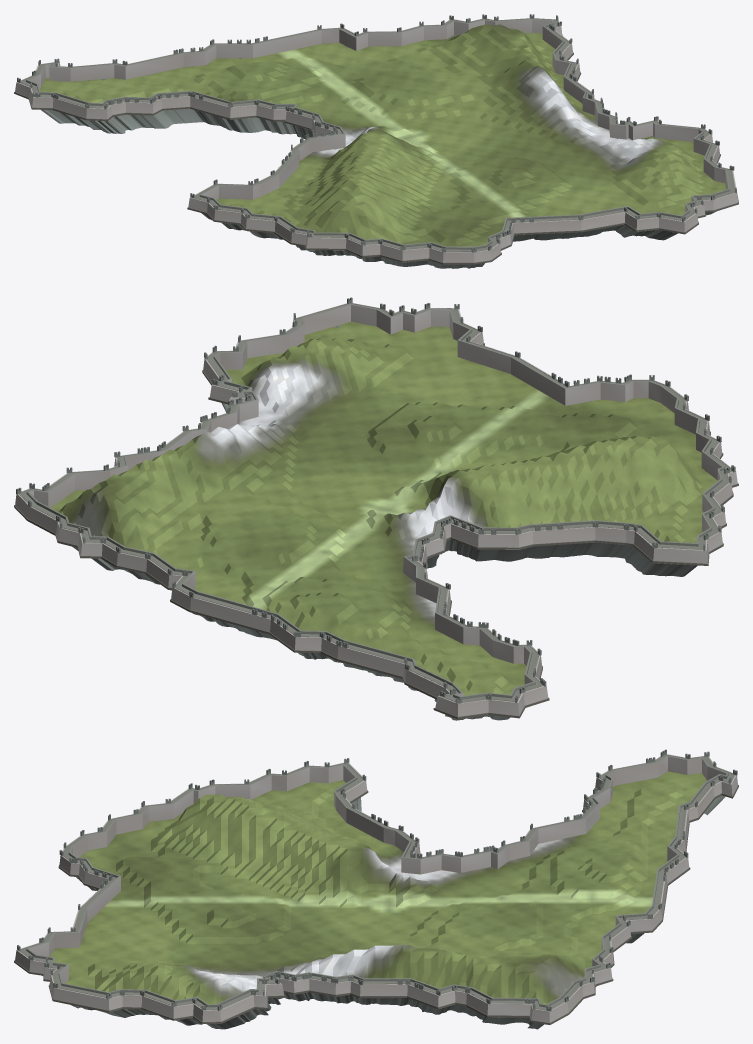
3 views of the same model, one above another, from view 1: azimuth 30°, elevation 25°; view 2: azimuth 150°, elevation 25°; view 3: azimuth 270°, elevation 25° (orthographic). The views are drawn at different scales.
Parts seen in each view (by area): view 1: ground_39669e92; view 2: ground_39669e92; view 3: ground_39669e92.
Part boxes in pixels (x1,y1,x2,y2): ground_39669e92: (14, 14, 738, 268); ground_39669e92: (14, 297, 738, 720); ground_39669e92: (14, 749, 738, 1029).
Size of the model in its own units: 132 by 12.62 by 155.
3 materials, 1 textured.
